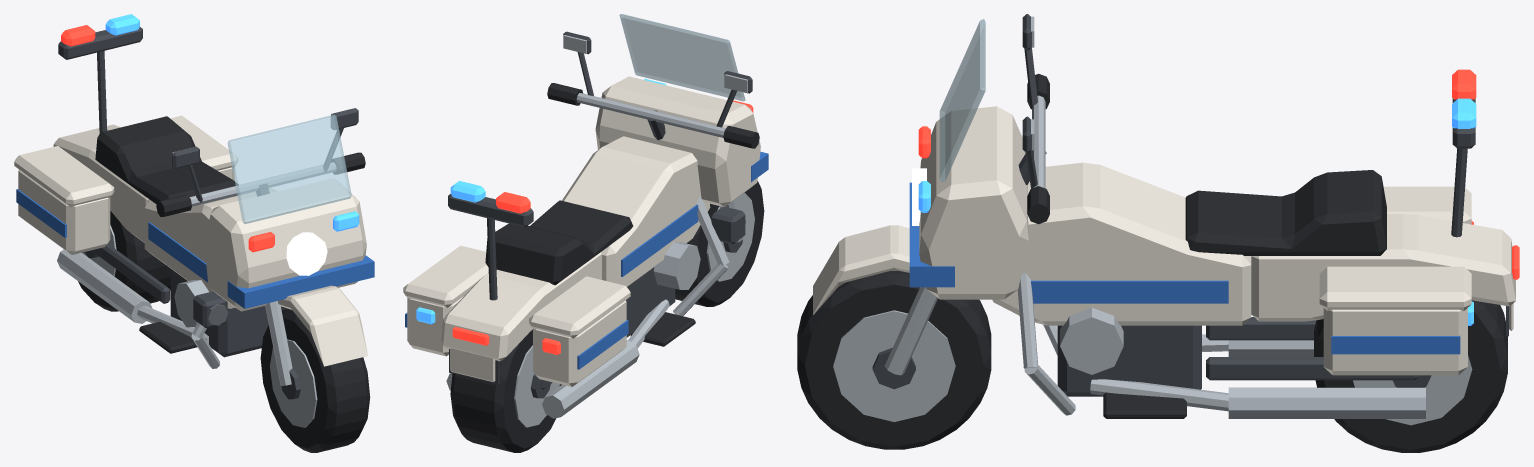
The model's file is police-motorcycle.glb.
3 renders of one model, left to right at view 1: azimuth 30°, elevation 25°; view 2: azimuth 150°, elevation 25°; view 3: azimuth 270°, elevation 25°, orthographic. The views are drawn at different scales.
Visible parts, largest first — view 1: Fairing, Windscreen, Wheel_Front, Seat, Fender_Front, Saddlebag_L, SaddlebagLid_L, Body, Tail, Fairing_Stripe, Engine, Exhaust_L (+25 smaller); view 2: Body, Fairing, Seat, Tail, Windscreen, Wheel_Rear, Saddlebag_L, SaddlebagLid_L, SaddlebagLid_R, Wheel_Front, Exhaust_L, Engine_Cylinder_L (+20 smaller); view 3: Body, Fairing, Wheel_Front, Seat, Tail, Wheel_Rear, Wheel_Front_Rim, Saddlebag_R, SaddlebagLid_R, Engine, Exhaust_R, Body_Stripe_R (+21 smaller).
Boxes of the visible parts, x1,y1,x2,y2 form: Fairing: (204,178,366,311); Windscreen: (227,114,351,223); Wheel_Front: (260,309,370,452); Seat: (95,116,238,204); Fender_Front: (278,285,367,366); Saddlebag_L: (18,169,110,254); SaddlebagLid_L: (14,146,114,207); Body: (144,188,277,308); Tail: (53,124,149,242); Fairing_Stripe: (227,255,374,308); Engine: (170,269,282,357); Exhaust_L: (57,249,152,323); Body: (562,136,710,286); Fairing: (595,76,760,207); Seat: (485,200,633,285); Tail: (441,252,601,361); Windscreen: (619,14,745,101); Wheel_Rear: (450,330,561,452); Saddlebag_L: (533,300,626,386); SaddlebagLid_L: (529,276,630,338); SaddlebagLid_R: (403,245,488,307); Wheel_Front: (675,181,764,306); Exhaust_L: (542,340,639,418); Engine_Cylinder_L: (653,242,700,289); Body: (992,162,1251,325); Fairing: (919,106,1028,299); Wheel_Front: (797,270,991,449); Seat: (1185,170,1386,255); Tail: (1251,214,1515,321); Wheel_Rear: (1314,300,1507,452); Wheel_Front_Rim: (833,310,955,421); Saddlebag_R: (1323,308,1467,375); SaddlebagLid_R: (1319,266,1471,310); Engine: (1057,325,1201,396); Exhaust_R: (1228,387,1425,418); Body_Stripe_R: (1031,280,1228,303).
Size of the model in its own units: 4.05 by 5.62 by 9.51.
